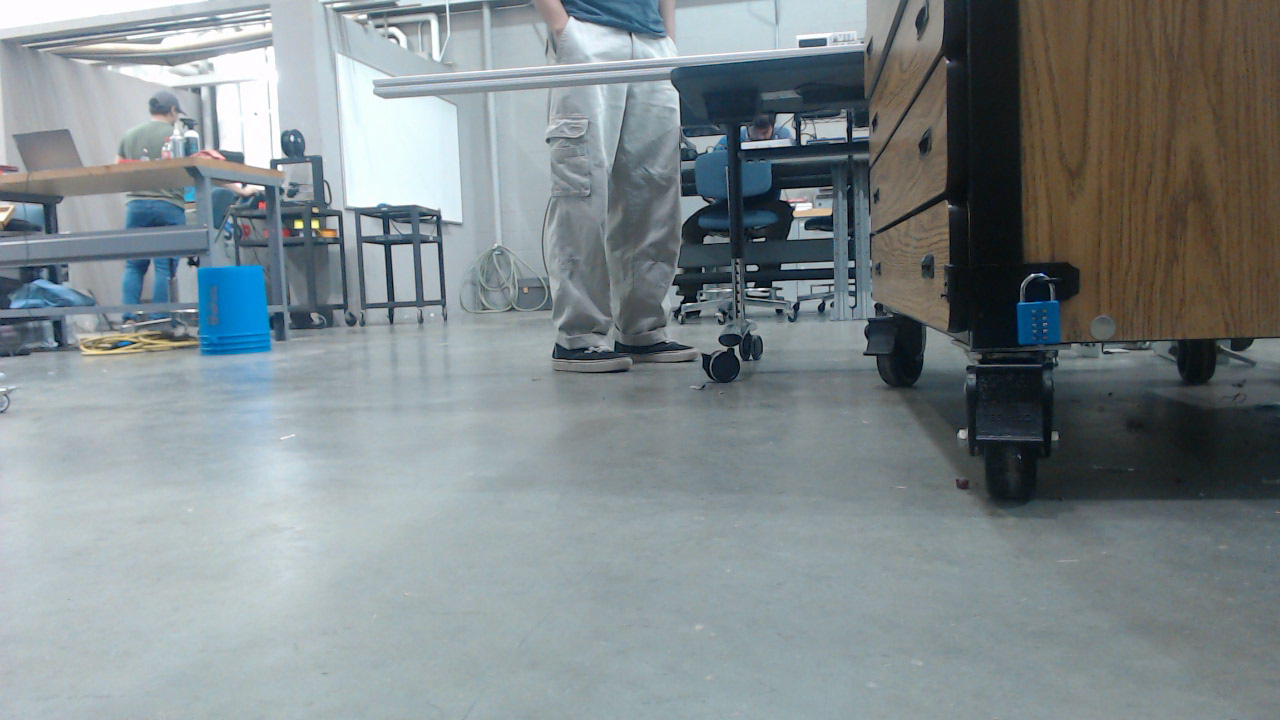blue_bucket: (198, 265, 281, 363)
